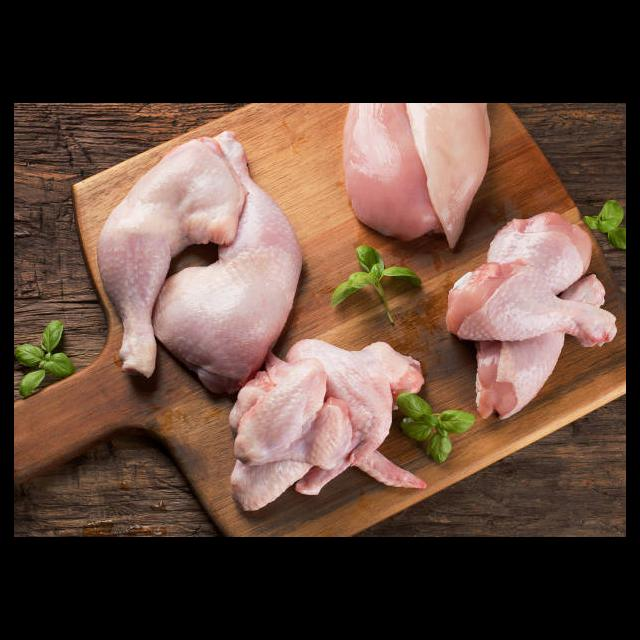chicken: (99, 126, 307, 386), (223, 332, 426, 513), (444, 213, 617, 422), (342, 103, 493, 242)
